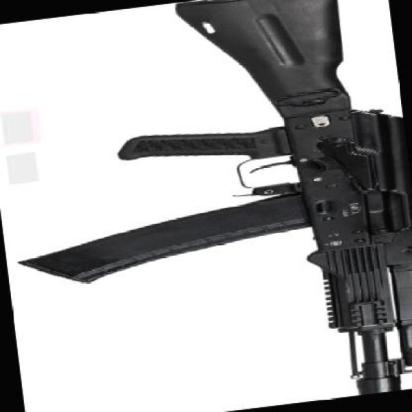Gun: (33, 0, 412, 412)
